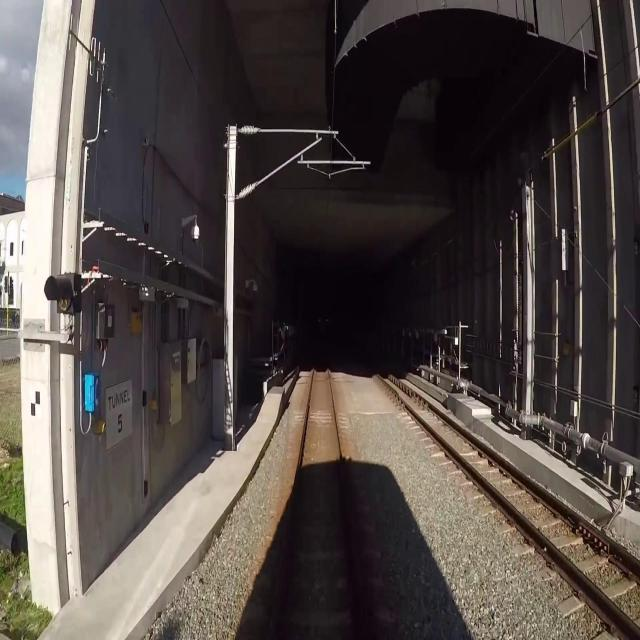rail-track: (284, 361, 365, 639)
